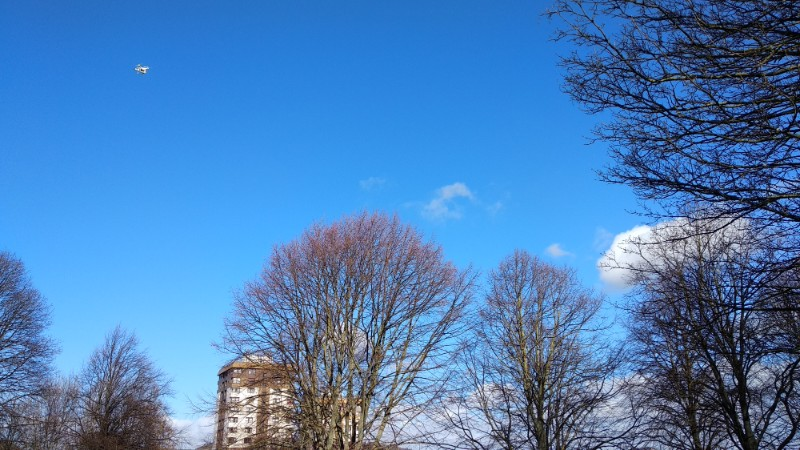drone: (136, 64, 152, 76)
